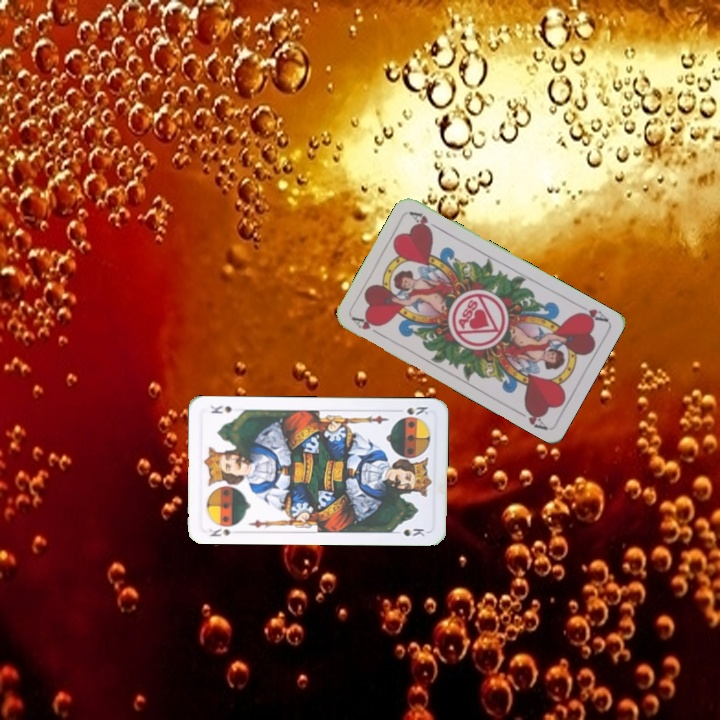HA: (348, 313, 385, 339), (572, 304, 610, 325)
SK: (403, 403, 431, 418), (205, 524, 233, 539)
